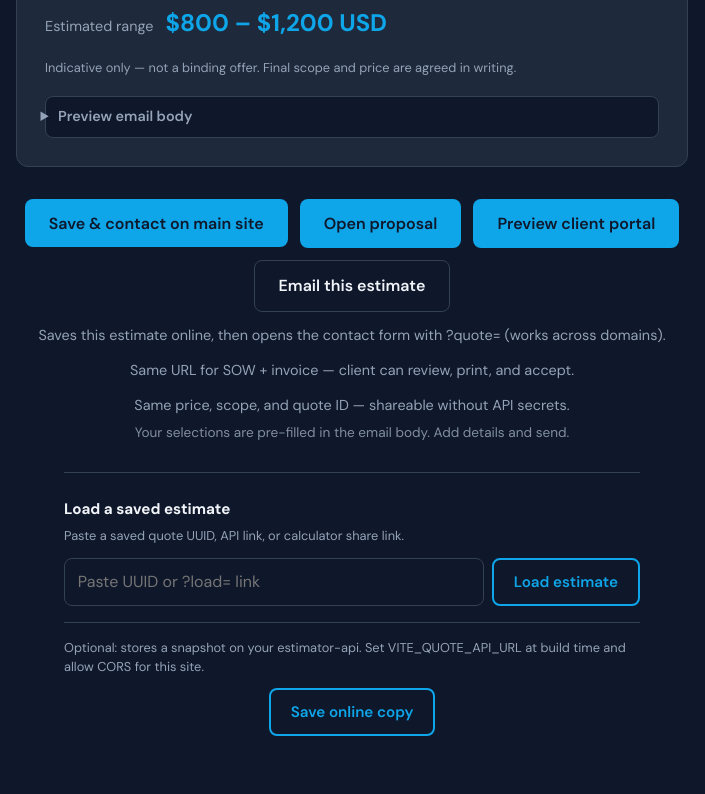
Scenario: Calculator › shows validation error for manual saved quote input
(page scrolled)
In the field named "saved quote link or uuid": [274, 582] box [64, 558, 484, 606], type "bad"
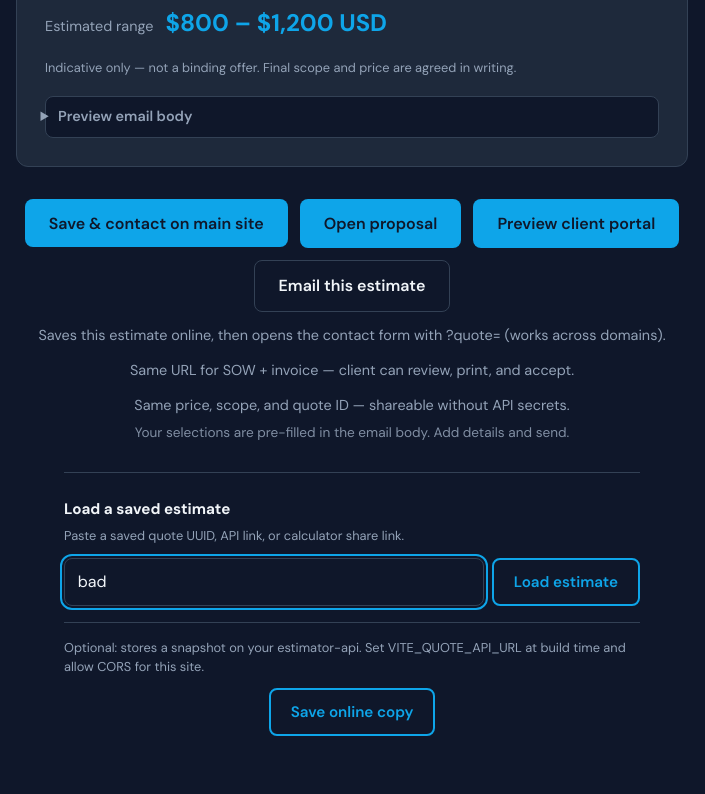
Click the button "Load estimate": [566, 582] box [492, 558, 640, 606]
(page scrolled)
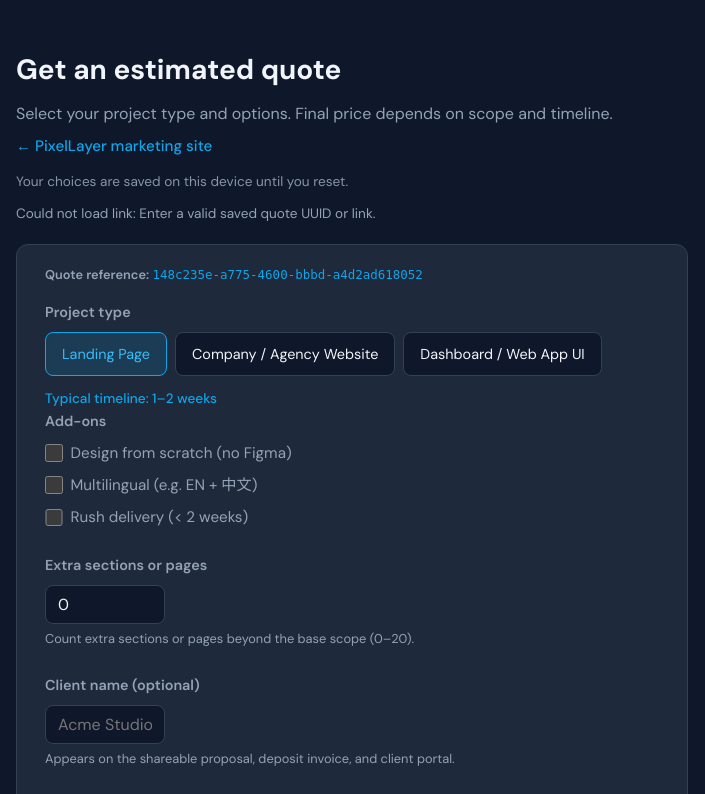
Result: the text "Could not load link: Enter a valid saved quote UUID or link." is shown at [16, 206, 375, 222]
